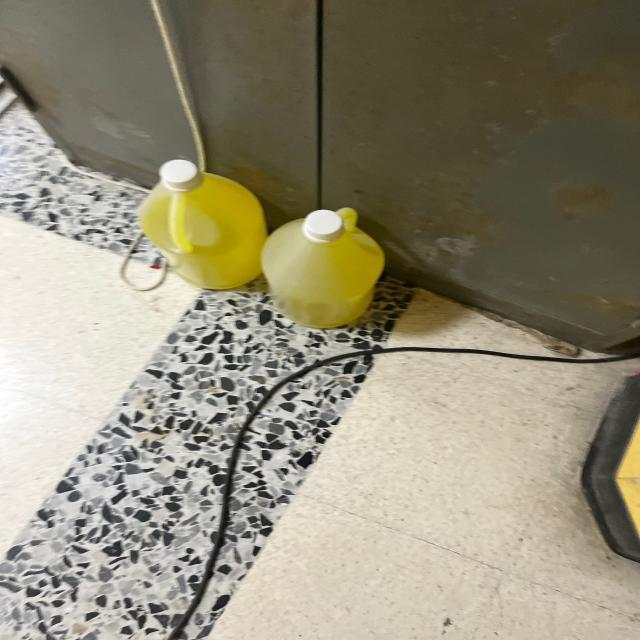HDPE Plastic: (135, 159, 262, 303), (266, 198, 380, 332)
